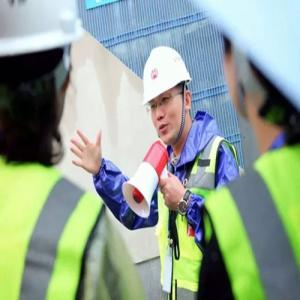white: (2, 2, 80, 158), (144, 41, 193, 148)
